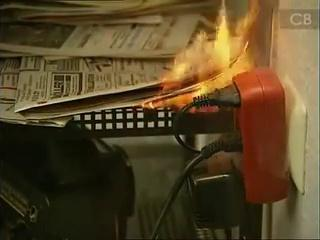Fire: (146, 15, 282, 128)
